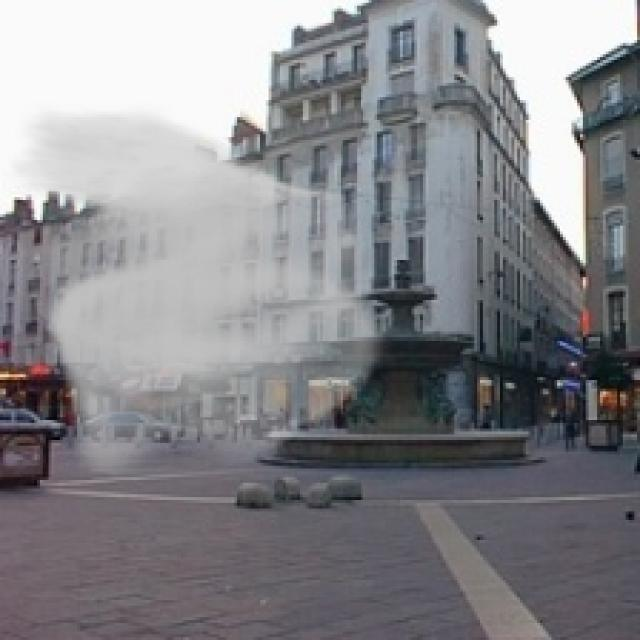Smoke: (2, 102, 394, 474)
